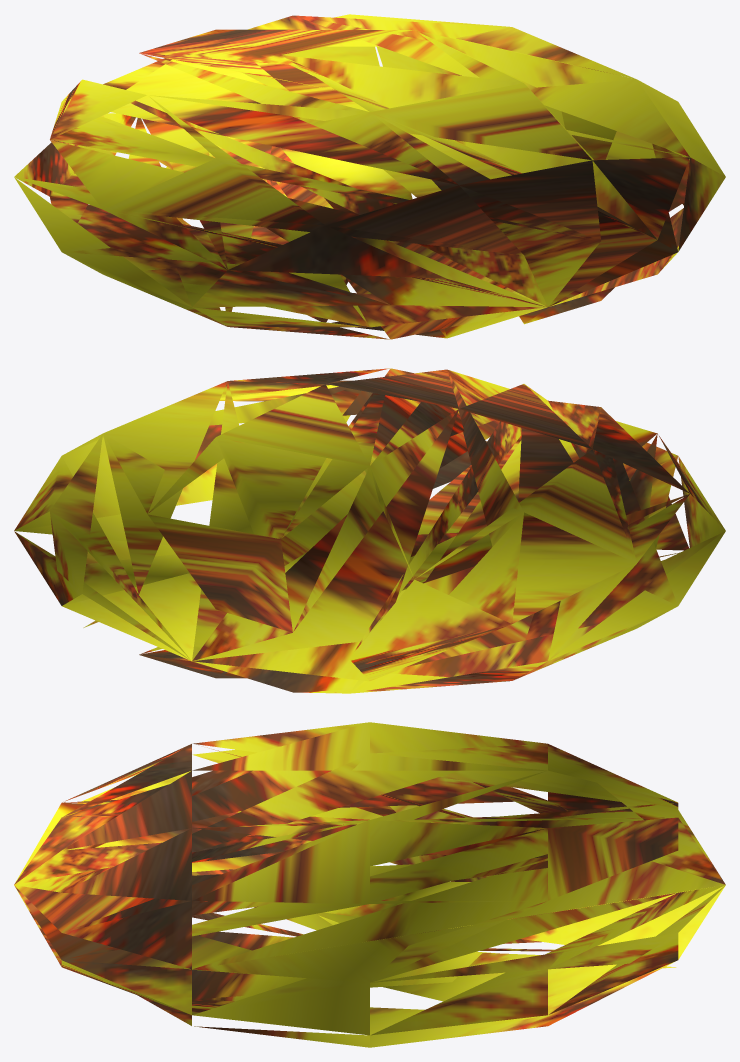
Rendered from humantorch_fireball.glb.
3 renders of one model, top to bottom at view 1: azimuth 30°, elevation 25°; view 2: azimuth 150°, elevation 25°; view 3: azimuth 270°, elevation 25°, orthographic.
Visible parts, largest first — view 1: humantorch_fireball_0; view 2: humantorch_fireball_0; view 3: humantorch_fireball_0.
Boxes of the visible parts, x1,y1,x2,y2 form: humantorch_fireball_0: [14, 14, 725, 339]; humantorch_fireball_0: [14, 368, 725, 693]; humantorch_fireball_0: [14, 722, 725, 1047].
Size of the model in its own units: 9.94 by 2 by 9.94.
1 material, 1 textured.
